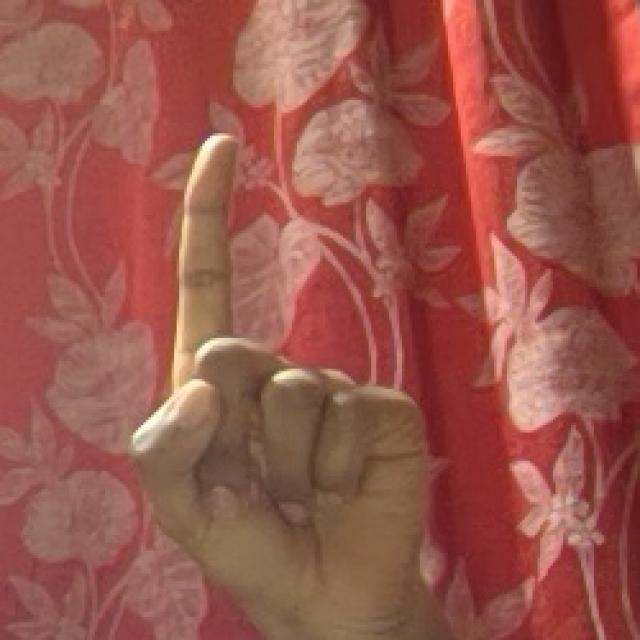Numeric-1: (132, 127, 427, 636)
